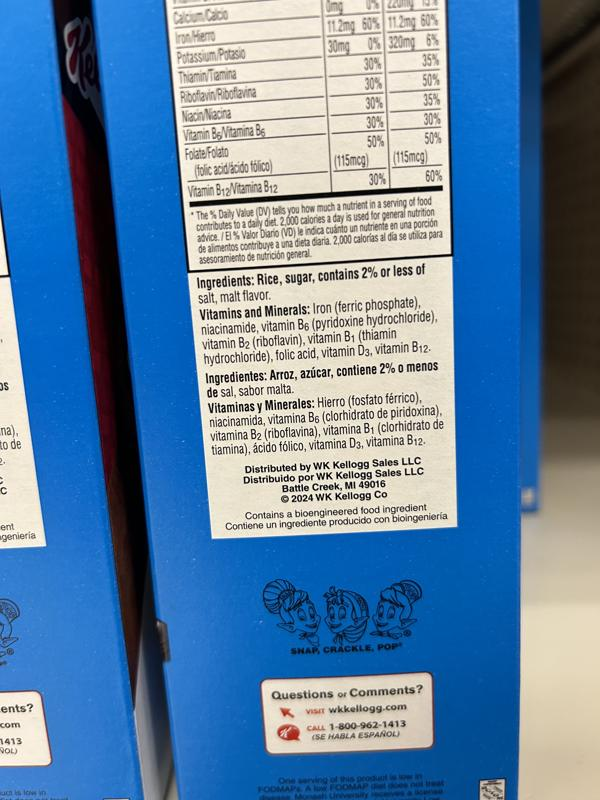ingredients: (193, 261, 434, 306)
